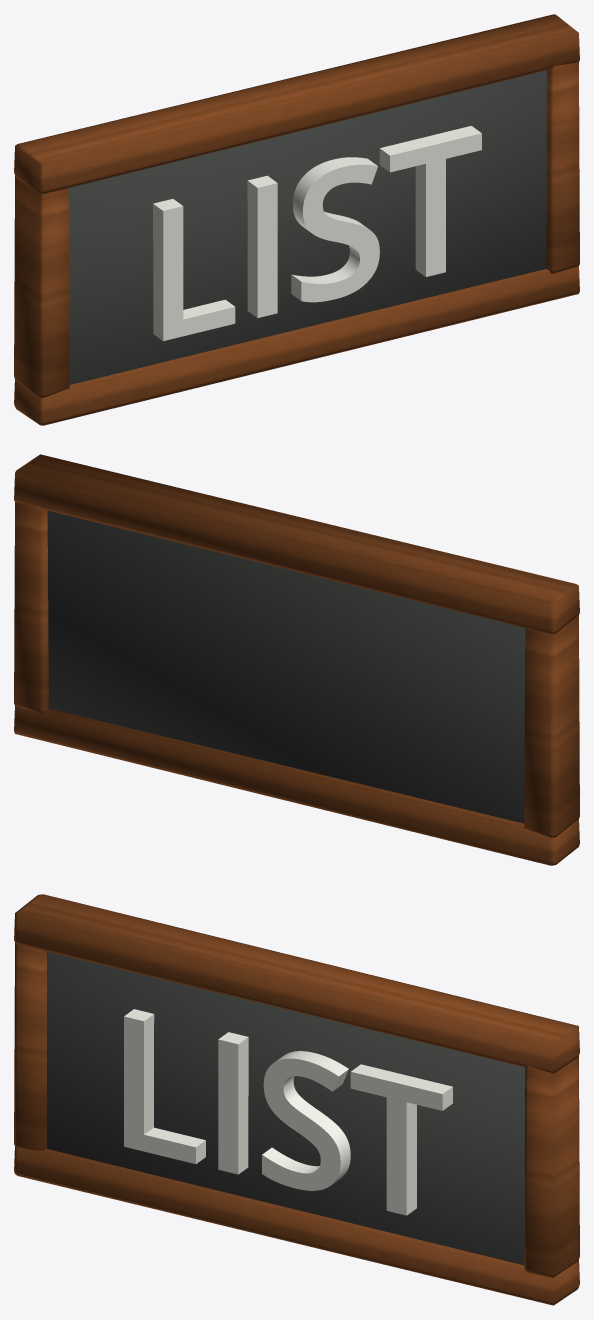
Rendered from 36_list_sign_floating.glb.
3 renders of one model, top to bottom at view 1: azimuth 30°, elevation 25°; view 2: azimuth 150°, elevation 25°; view 3: azimuth 330°, elevation 25°, orthographic.
Parts seen in each view (by area): view 1: SlateBoard, FrameTop, SignText, FrameBottom, FrameSide_-1, FrameSide_1; view 2: SlateBoard, FrameTop, FrameBottom, FrameSide_-1, FrameSide_1; view 3: SlateBoard, FrameTop, SignText, FrameBottom, FrameSide_1, FrameSide_-1.
Part boxes in pixels (box(x1,y1,x2,y2)): SlateBoard: box(68, 70, 546, 384); FrameTop: box(14, 14, 579, 193); SignText: box(153, 126, 481, 341); FrameBottom: box(14, 266, 579, 425); FrameSide_-1: box(14, 176, 69, 397); FrameSide_1: box(546, 62, 579, 273); SlateBoard: box(47, 510, 525, 823); FrameTop: box(14, 454, 579, 633); FrameBottom: box(14, 706, 579, 865); FrameSide_-1: box(524, 615, 579, 837); FrameSide_1: box(14, 502, 48, 713); SlateBoard: box(46, 951, 525, 1265); FrameTop: box(14, 894, 579, 1073); SignText: box(124, 1009, 452, 1215); FrameBottom: box(14, 1147, 579, 1305); FrameSide_1: box(524, 1056, 579, 1277); FrameSide_-1: box(14, 943, 46, 1150).
Bounding box in the file's own units: 1.24 × 0.58 × 0.1326.
3 materials, 1 textured.
